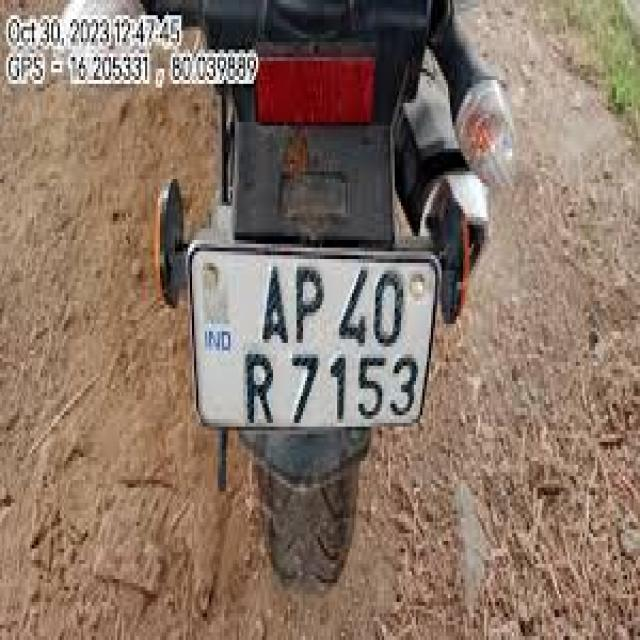number_plate: (165, 199, 453, 469)
